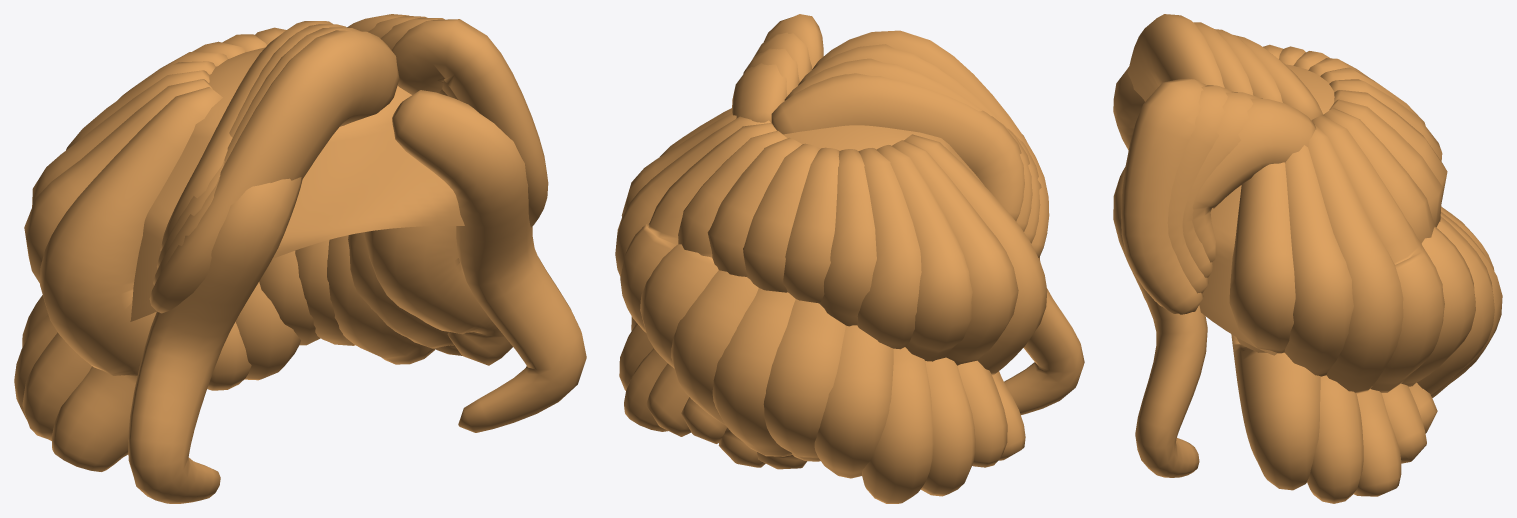
The model's file is studio_wavy_bob_medium.glb.
The picture shows the model from 3 angles, left to right: view 1: azimuth 30°, elevation 25°; view 2: azimuth 150°, elevation 25°; view 3: azimuth 270°, elevation 25°; orthographic projection. The views are drawn at different scales.
Visible parts, largest first — view 1: wavy_bob; view 2: wavy_bob; view 3: wavy_bob.
Part boxes in pixels (x1,y1,x2,y2): wavy_bob: (14, 14, 586, 503); wavy_bob: (615, 14, 1084, 503); wavy_bob: (1113, 14, 1502, 503).
Size of the model in its own units: 0.6249 by 0.5558 by 0.4875.
